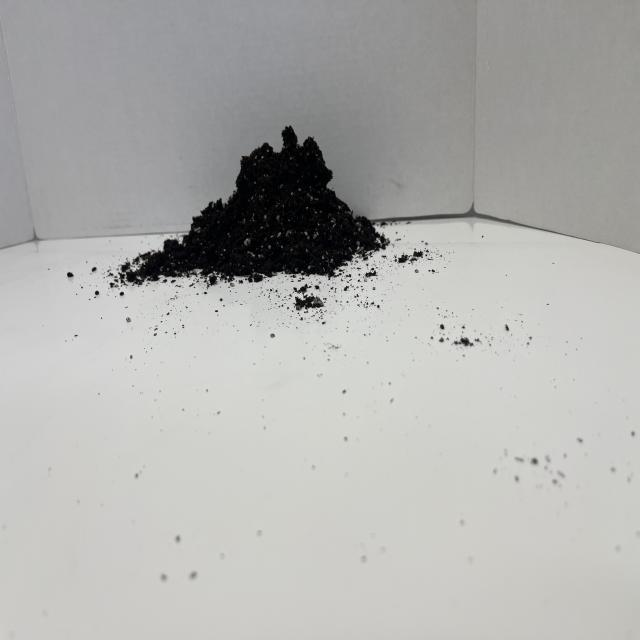soil: (118, 122, 389, 286)
